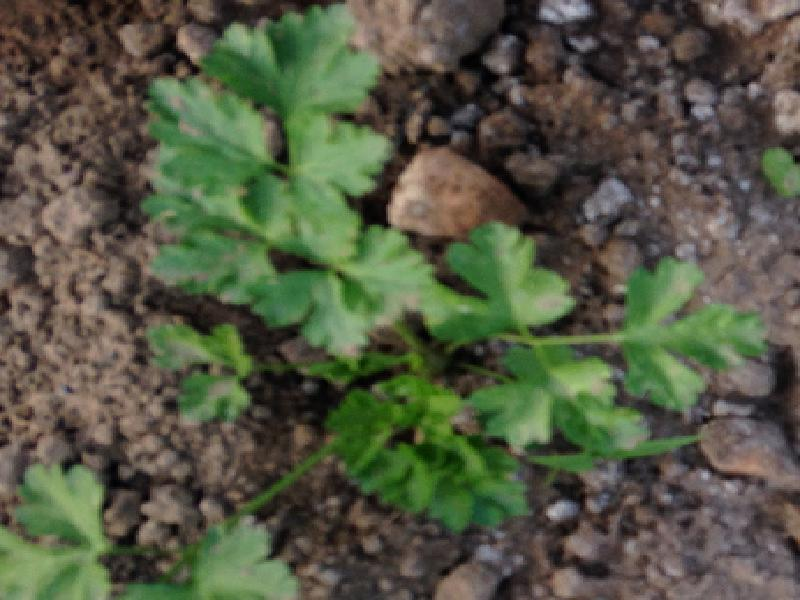radish: (7, 0, 800, 595)
